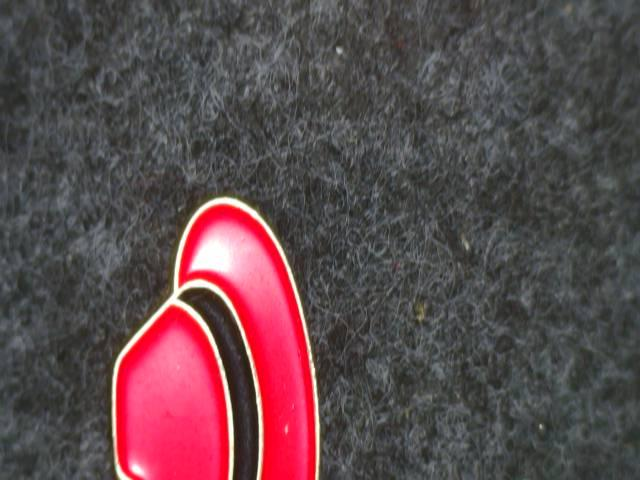Red-Hat: (84, 167, 390, 480)
